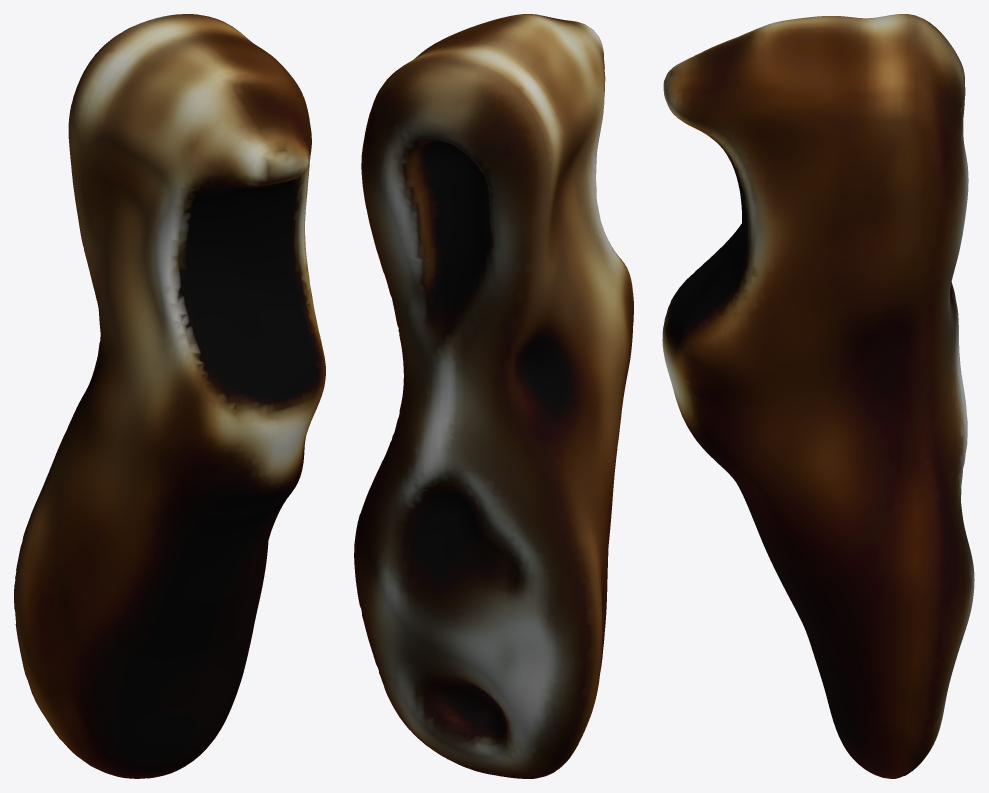
Rendered from shoe3.glb.
3 views of the same model, side by side, from view 1: azimuth 30°, elevation 25°; view 2: azimuth 150°, elevation 25°; view 3: azimuth 270°, elevation 25° (orthographic). The views are drawn at different scales.
Bounding box in the file's own units: 0.3454 × 0.9996 × 0.3754.
